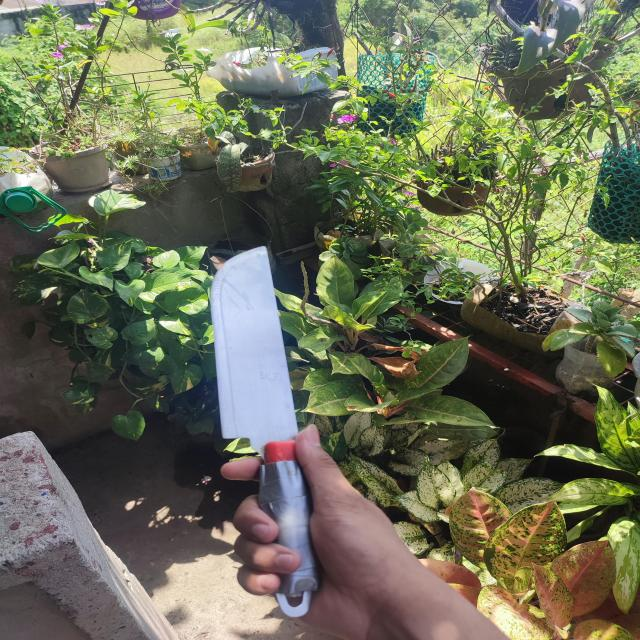knife: (210, 246, 316, 615)
